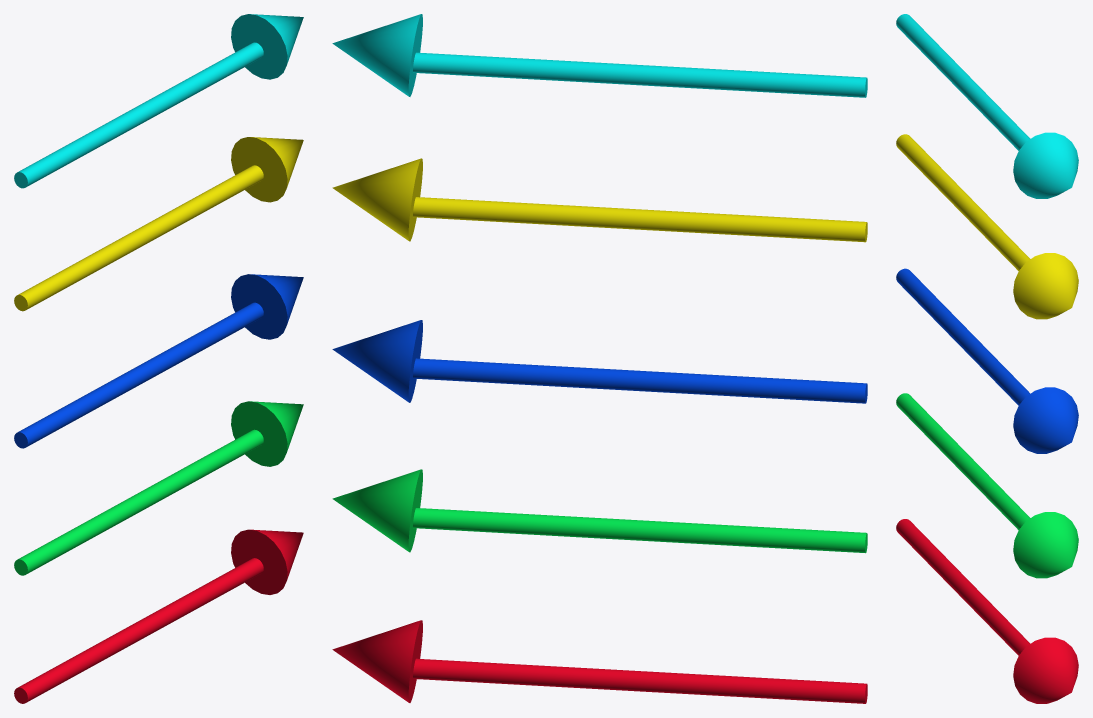
Rendered from COLOR_ARROWS_JIAWEN.fbx.
3 renders of one model, left to right at view 1: azimuth 30°, elevation 25°; view 2: azimuth 150°, elevation 25°; view 3: azimuth 270°, elevation 25°, orthographic. The views are drawn at different scales.
Parts seen in each view (by area): view 1: YELLOW_ARROW, CYAN_ARROW, RED_ARROW, GREEN_ARROW, BLUE_ARROW; view 2: GREEN_ARROW, YELLOW_ARROW, RED_ARROW, CYAN_ARROW, BLUE_ARROW; view 3: RED_ARROW, GREEN_ARROW, YELLOW_ARROW, CYAN_ARROW, BLUE_ARROW.
Part boxes in pixels (left/top/right/bottom): YELLOW_ARROW: left=14, top=137, right=303, bottom=311; CYAN_ARROW: left=14, top=14, right=303, bottom=188; RED_ARROW: left=14, top=529, right=303, bottom=703; GREEN_ARROW: left=14, top=401, right=303, bottom=575; BLUE_ARROW: left=14, top=274, right=303, bottom=448; GREEN_ARROW: left=332, top=469, right=867, bottom=553; YELLOW_ARROW: left=332, top=158, right=867, bottom=242; RED_ARROW: left=332, top=620, right=867, bottom=703; CYAN_ARROW: left=332, top=14, right=867, bottom=97; BLUE_ARROW: left=332, top=320, right=867, bottom=403; RED_ARROW: left=896, top=519, right=1078, bottom=703; GREEN_ARROW: left=896, top=393, right=1078, bottom=578; YELLOW_ARROW: left=896, top=134, right=1078, bottom=319; CYAN_ARROW: left=896, top=14, right=1078, bottom=198; BLUE_ARROW: left=896, top=268, right=1078, bottom=453.
Bounding box in the file's own units: 4.92 × 7.34 × 2.14.
